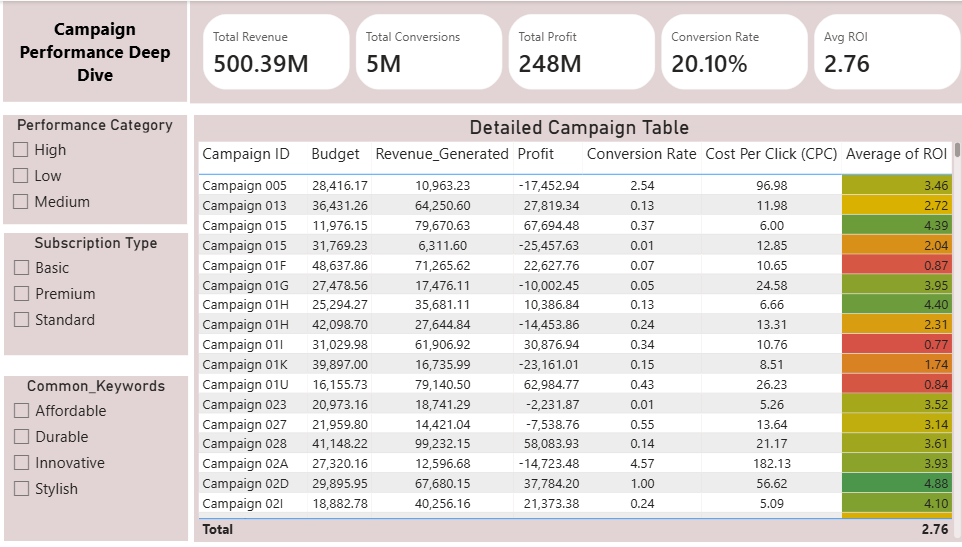

The dashboard page shown, as its layout file describes it:
{"tool":"powerbi","page":{"name":"Detailed Campaign Table","canvas":[1280,720],"ordinal":3},"visuals":[{"type":"tableEx","title":"Detailed Campaign Table","fields":{"Values":["marketing_and_product_performance.Campaign ID","marketing_and_product_performance.Budget","marketing_and_product_performance.Revenue_Generated","marketing_and_product_performance.Profit","marketing_and_product_performance.Conversion Rate","marketing_and_product_performance.Cost Per Click (CPC)","Avg(marketing_and_product_performance.ROI)"]},"box":[256.6,149.2,1009.3,559],"z":0},{"type":"shape","box":[6.2,0,241.1,132.2],"z":1000},{"type":"slicer","title":"Common_Keywords","fields":{"Values":["marketing_and_product_performance.Common_Keywords"]},"box":[7.8,491.5,241.1,216.2],"z":2000},{"type":"slicer","title":"Performance Category","fields":{"Values":["marketing_and_product_performance.Campaign Categories"]},"box":[6.2,149.3,241.1,143.1],"z":3000},{"type":"slicer","title":"Subscription Type","fields":{"Values":["marketing_and_product_performance.Subscription_Tier"]},"box":[7.8,304.1,241.1,160.2],"z":4000},{"type":"cardVisual","fields":{"Data":["Measure.Total Revenue","Measure.Total Conversions","Measure.Total Profit","Measure.Conversion Rate","Measure.Avg ROI"]},"box":[251.8,0,1028.2,133.9],"z":5000}]}

Visuals, with their boxes in screenshot pixels (x1, y1, x2, y2), scaled from the page's 1280x720 canvas onto the 962x547 screenshot:
"Detailed Campaign Table" tableEx: select_region(193, 113, 951, 538)
shape: select_region(5, 0, 186, 100)
"Common_Keywords" slicer: select_region(6, 373, 187, 538)
"Performance Category" slicer: select_region(5, 113, 186, 222)
"Subscription Type" slicer: select_region(6, 231, 187, 353)
cardVisual - Measure.Total Revenue x Measure.Total Conversions: select_region(189, 0, 961, 102)
